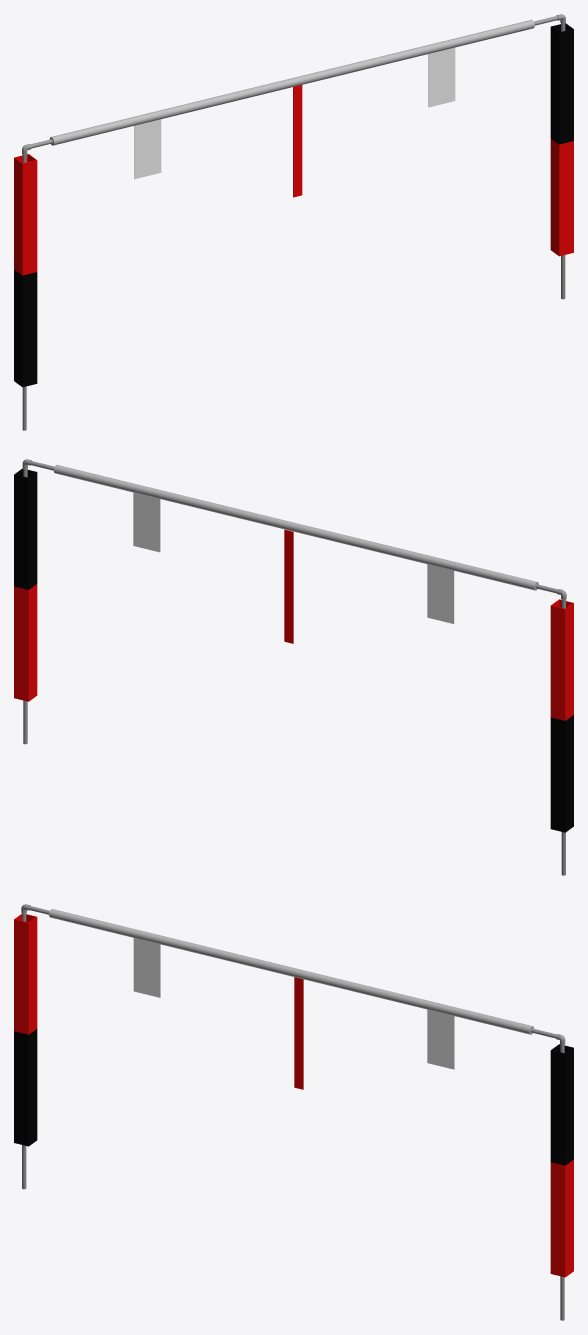
The model's file is Gate.fbx.
The picture shows the model from 3 angles, top to bottom: view 1: azimuth 30°, elevation 25°; view 2: azimuth 150°, elevation 25°; view 3: azimuth 330°, elevation 25°; orthographic projection.
Parts seen in each view (by area): view 1: Body1 (×10); view 2: Body1 (×10); view 3: Body1 (×10).
Boxes of the visible parts, x1,y1,x2,y2 form: Body1 (×10): (14, 19, 573, 387); Body1 (×10): (14, 464, 573, 832); Body1 (×10): (14, 909, 573, 1277).
Size of the model in its own units: 124 by 61.36 by 3.33.
